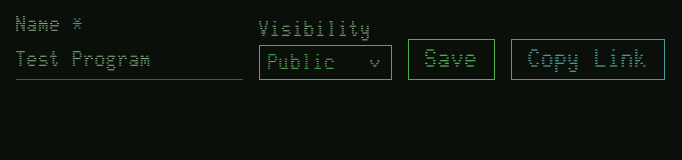
Test case: ProgramSettingsForm › copies the program link and shows feedback
Step 1. Click the button "Copy Link" → click(588, 60), box [511, 39, 665, 80]
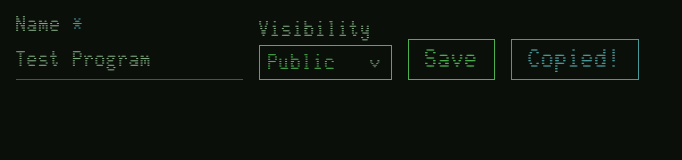
Now the button "Copied!" is shown, box [511, 39, 639, 80]
